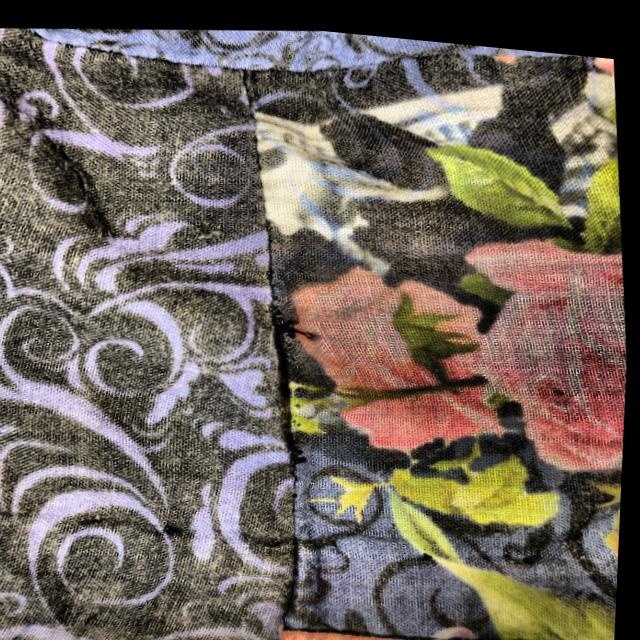seam: (204, 253, 373, 497)
